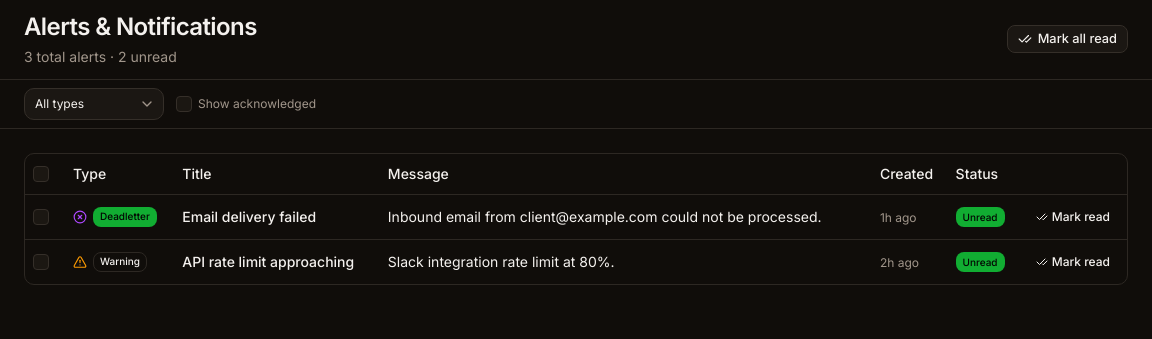
Test: AdminAlertsPage › shows acknowledged alerts when toggled
Click the checkbox named "Show acknowledged" at (184, 104), box [176,96,192,112]
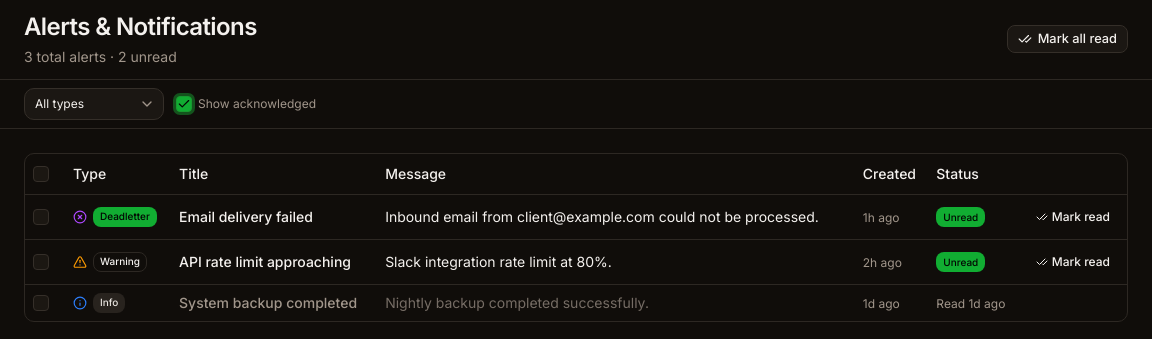
Check: the text "System backup completed" is shown, box [179,294,357,310]
